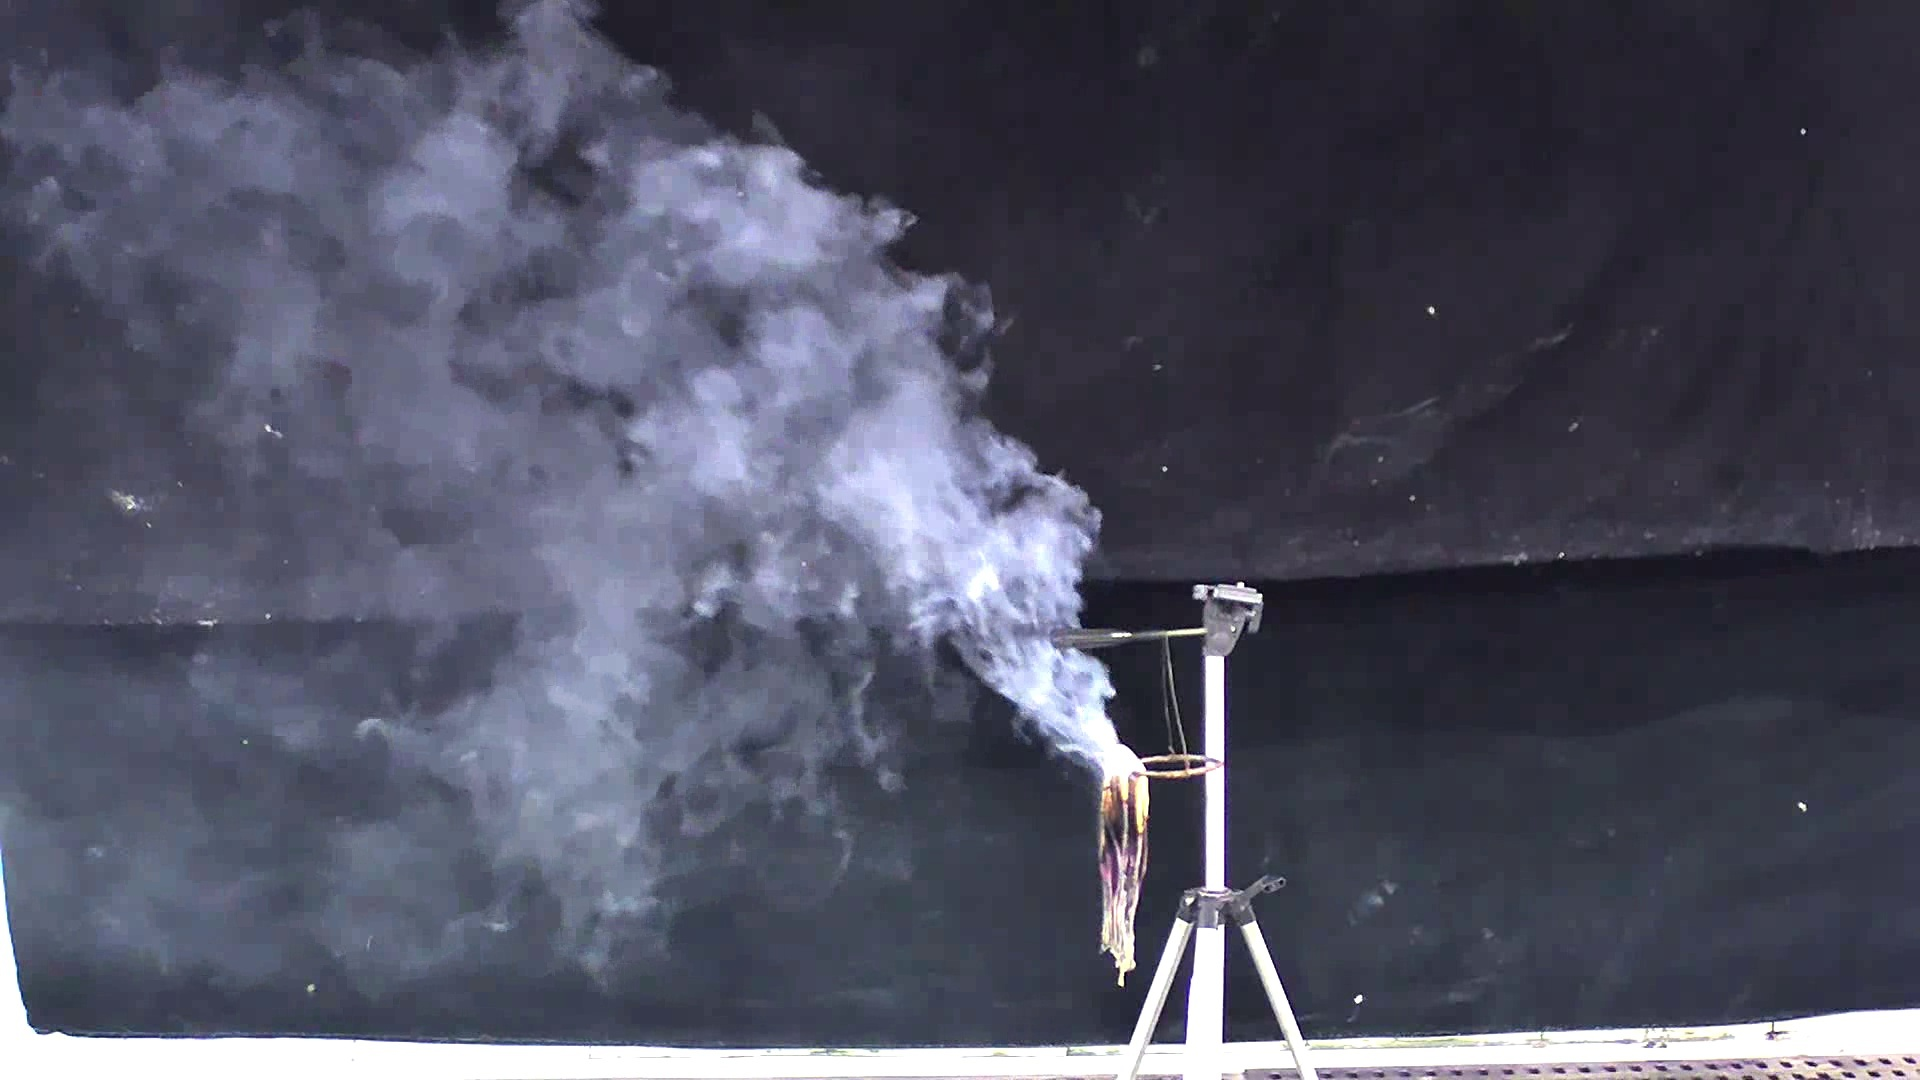smoke: (146, 11, 1108, 907)
